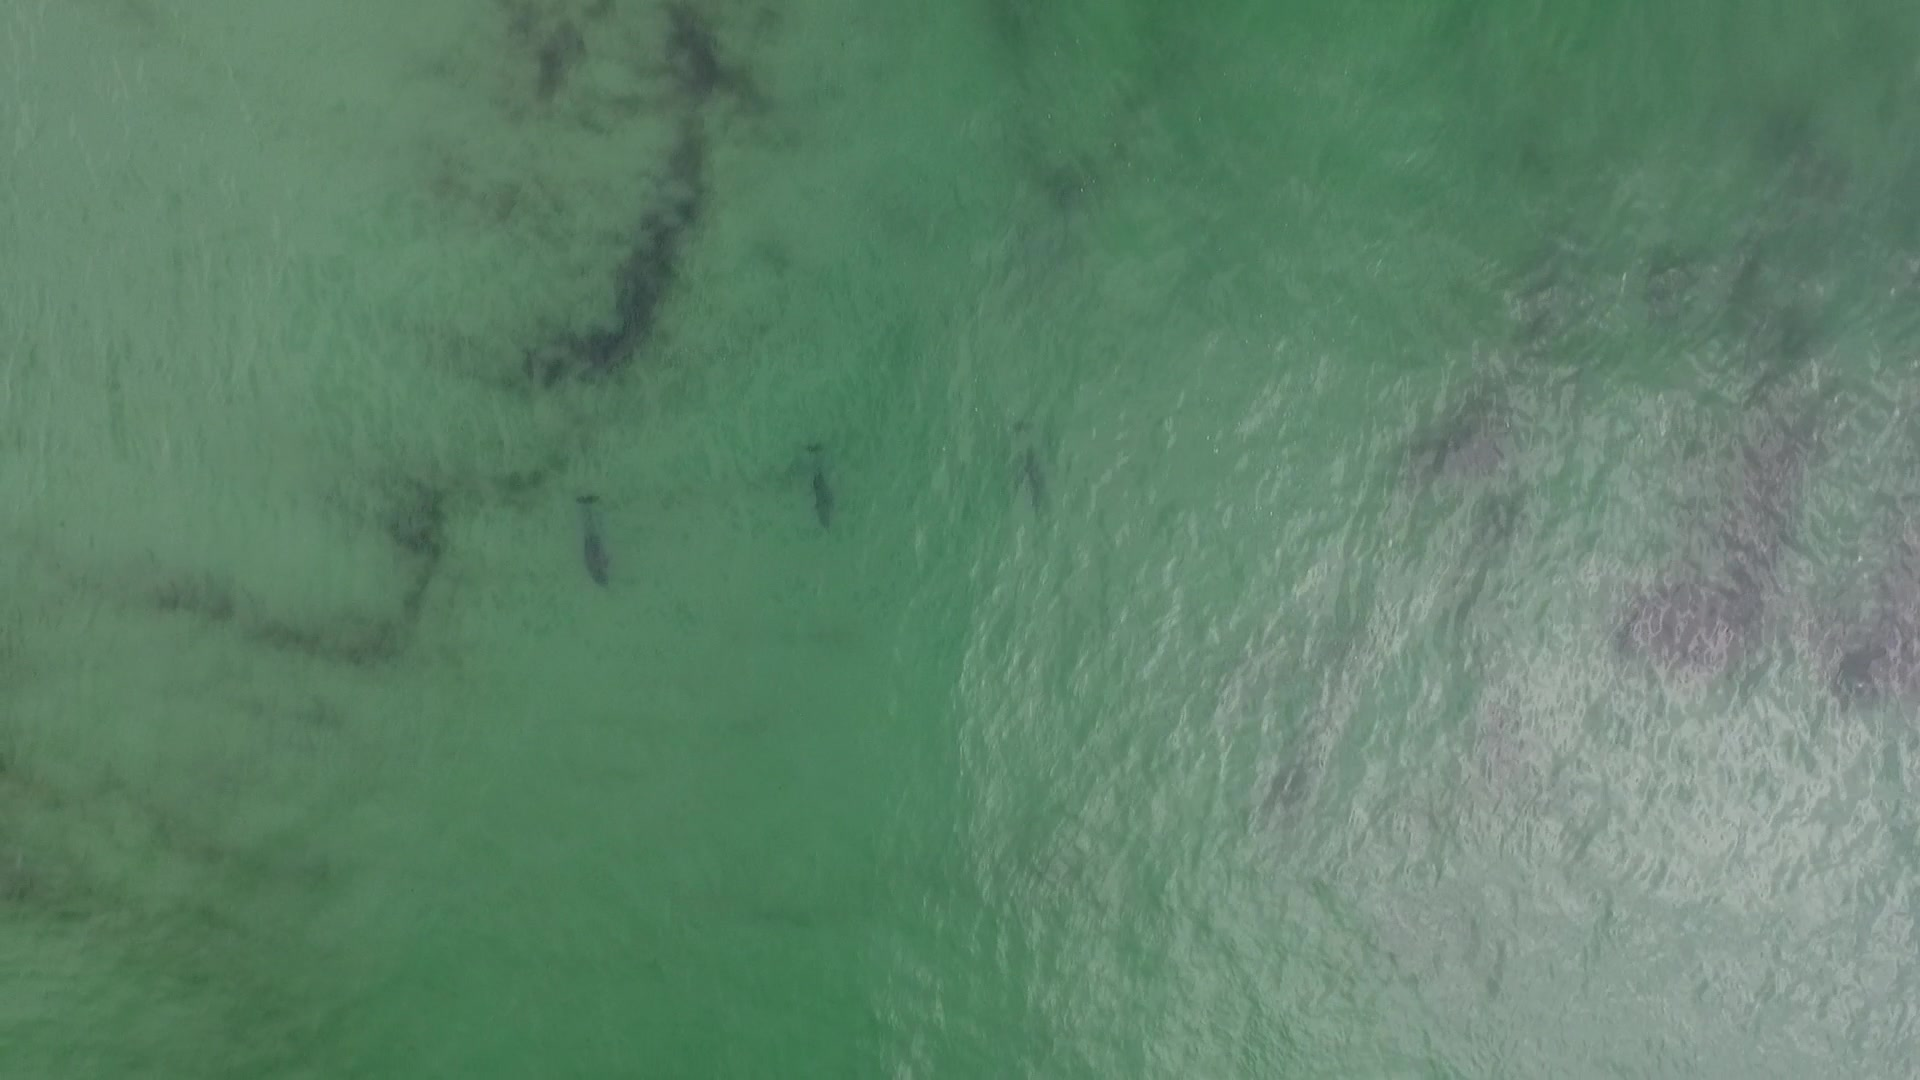dolphin: (550, 479, 633, 601), (777, 423, 845, 547)
